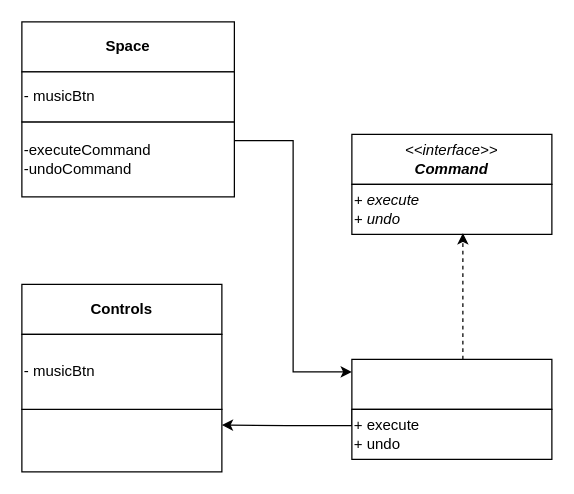
Some shapes in this 574 by 494 pixel diagram are drawn without their labels. The shapes that lost their labels are listed below. From the top down, each one's box as (x1, y1, x2, y2) in pixels, then its label:
(351, 358, 552, 409): ToggleBGMusic
(21, 408, 222, 472): + toggleBGMusic()
